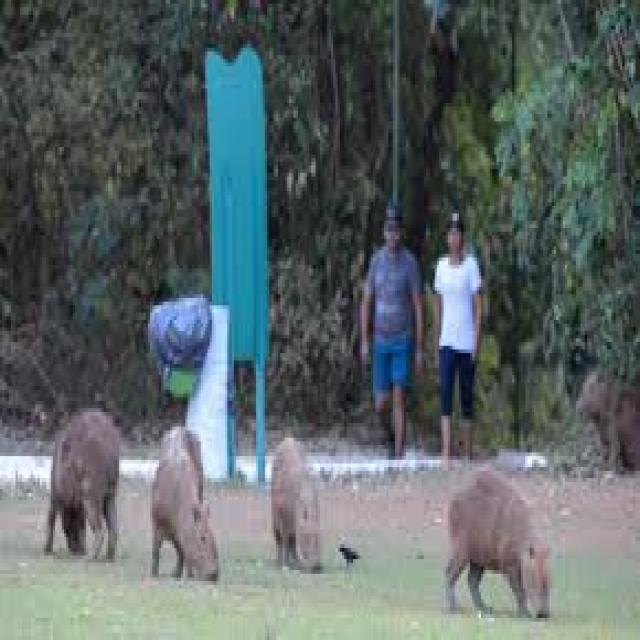capy: (441, 462, 552, 626), (147, 424, 222, 590), (269, 433, 325, 572)
